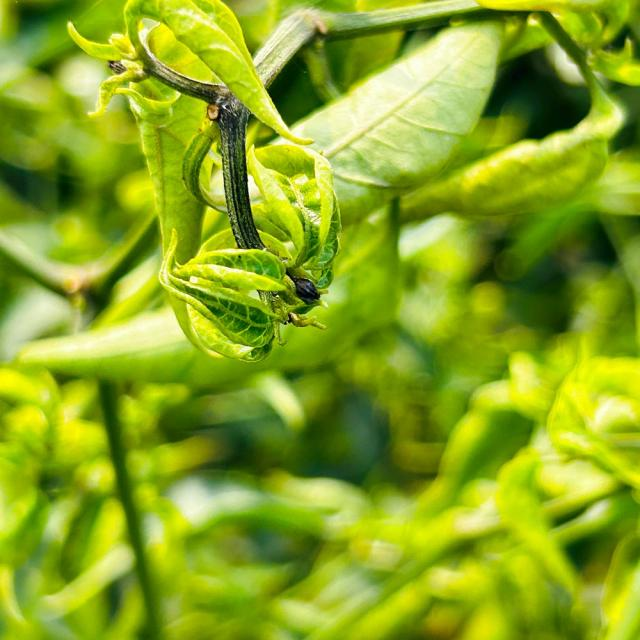Chilli_Leaf_Curl: (2, 1, 638, 638), (66, 0, 342, 364), (158, 128, 341, 363), (284, 15, 506, 192), (123, 0, 314, 147), (158, 227, 294, 364), (245, 142, 342, 298)
